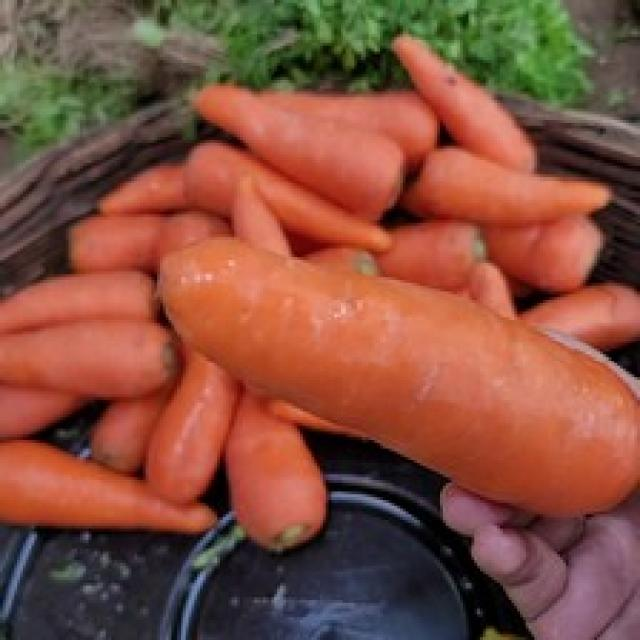Fresh_Carrot: (166, 235, 627, 481), (191, 83, 405, 200), (1, 439, 212, 539), (419, 141, 640, 207), (2, 336, 164, 392), (2, 276, 156, 318)
